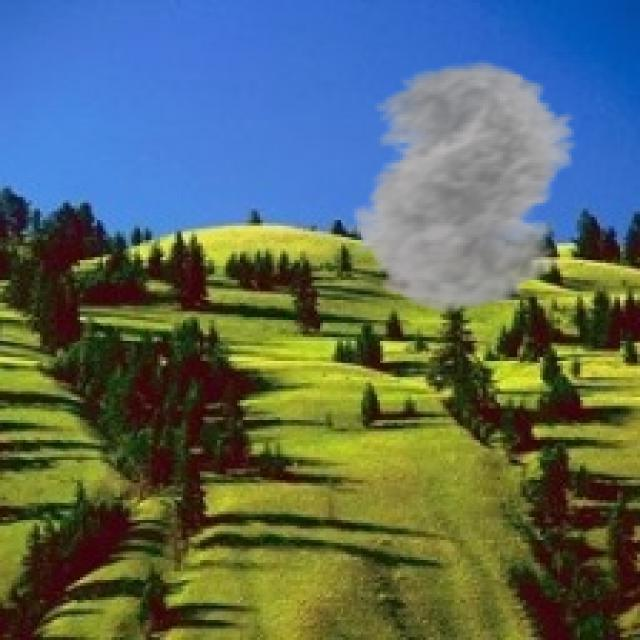Smoke: (328, 59, 606, 314)
